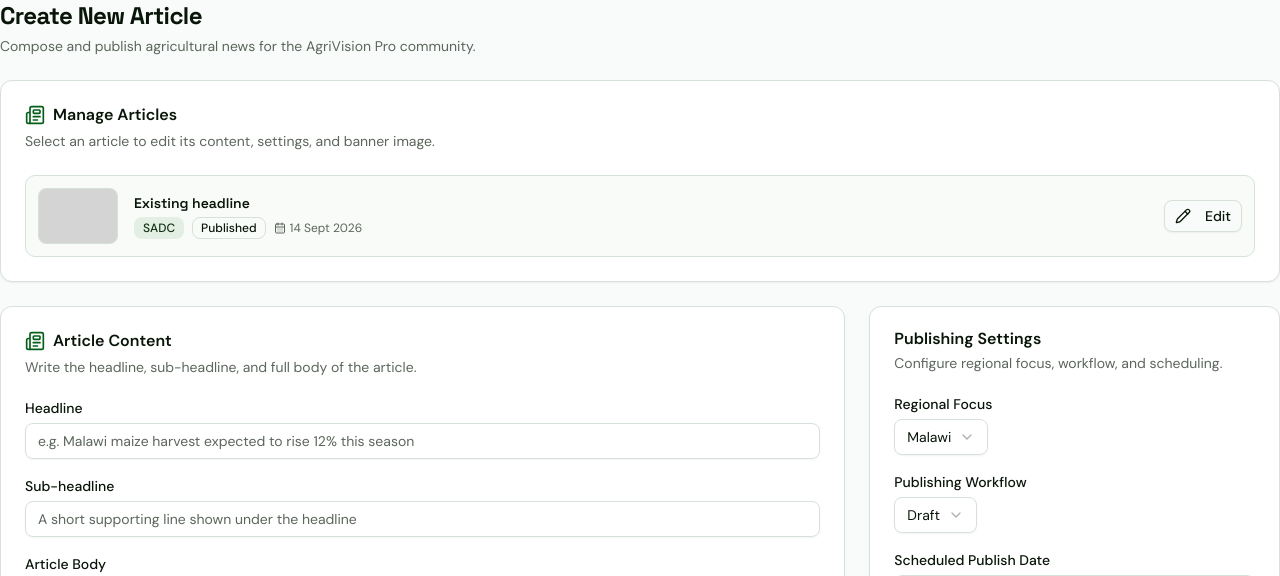
it: NewsManagementPage › opens an existing article from the management list into the edit form
Expected: the text "Existing headline" is shown, x1=134 y1=194 x2=250 y2=212
Click the button "Edit" at (1203, 216), box x1=1164 y1=200 x2=1242 y2=232
(page scrolled)
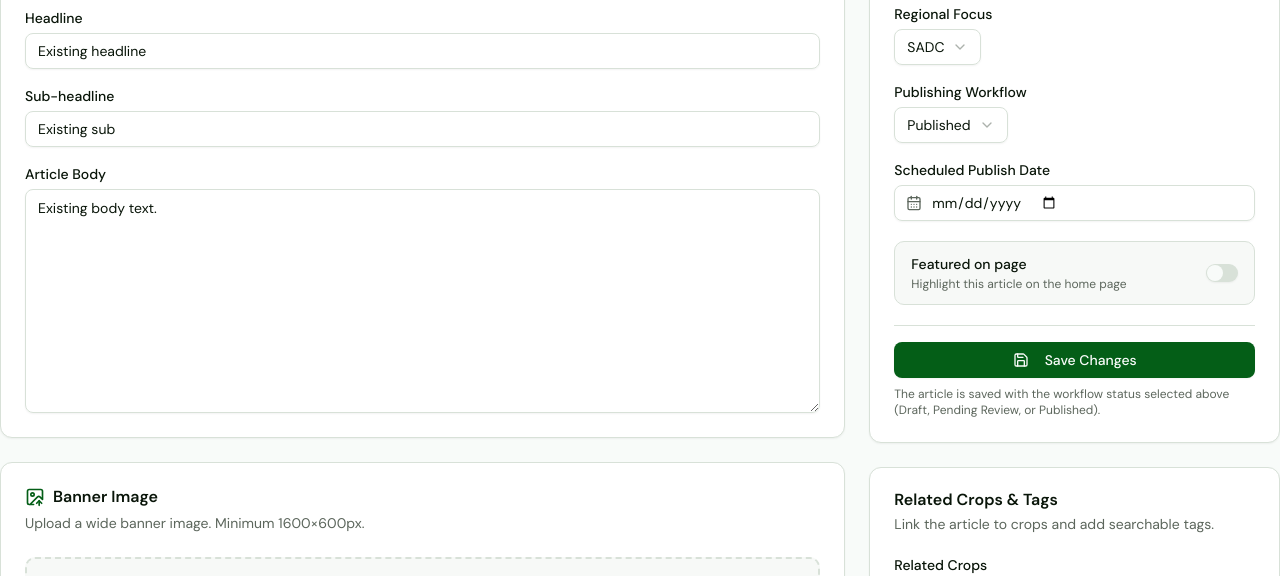
Result: the field labelled "Headline" holds "Existing headline" at x1=25 y1=33 x2=820 y2=69
Result: the field labelled "Sub-headline" holds "Existing sub" at x1=25 y1=111 x2=820 y2=147
Result: the text box labelled "Article Body" holds "Existing body text." at x1=25 y1=189 x2=820 y2=413
